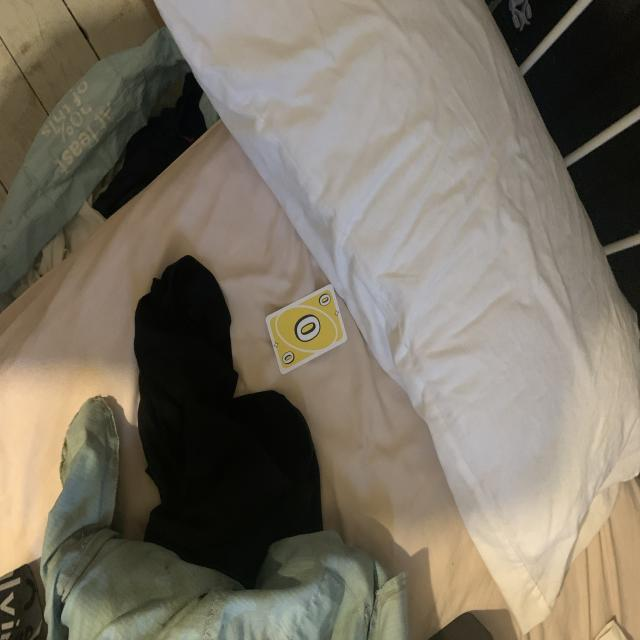lyellow-0: (316, 292, 334, 310)
